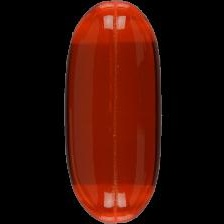69189-0400: (0, 0, 224, 224)
